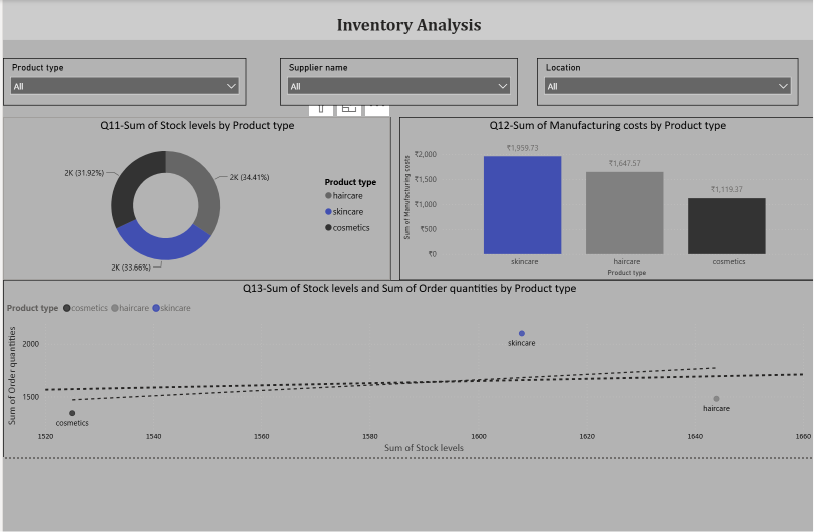

Layout of this report page (visuals, bound fields, positions):
{"tool":"powerbi","page":{"name":"Inventory Analysis","canvas":[1280,720],"ordinal":3},"visuals":[{"type":"columnChart","title":"Q12-Sum of Manufacturing costs by Product type","fields":{"Category":["project_supply_chain_data supply_chain_data.Product type"],"Y":["Sum(project_supply_chain_data supply_chain_data.Manufacturing costs)"]},"box":[625.8,184.9,654.2,256],"z":0},{"type":"scatterChart","title":"Q13-Sum of Stock levels and Sum of Order quantities by Product type","fields":{"X":["Sum(project_supply_chain_data supply_chain_data.Stock levels)"],"Y":["Sum(project_supply_chain_data supply_chain_data.Order quantities)"],"Series":["project_supply_chain_data supply_chain_data.Product type"]},"box":[0,440.9,1280,280.4],"z":1000},{"type":"donutChart","title":"Q11-Sum of Stock levels by Product type","fields":{"Category":["project_supply_chain_data supply_chain_data.Product type"],"Y":["Sum(project_supply_chain_data supply_chain_data.Stock levels)"]},"box":[0,184.9,611.6,256],"z":2000},{"type":"textbox","box":[0,0,1280,63],"z":3000},{"type":"slicer","fields":{"Values":["project_supply_chain_data supply_chain_data.Product type"]},"box":[0,91.4,384,75.2],"z":4000},{"type":"slicer","fields":{"Values":["project_supply_chain_data supply_chain_data.Supplier name"]},"box":[436.8,91.4,373.8,75.2],"z":5000},{"type":"slicer","fields":{"Values":["project_supply_chain_data supply_chain_data.Location"]},"box":[841.1,91.4,412.4,75.2],"z":6000}]}

Visuals, with their boxes on the page's 1280x720 design canvas (x1, y1, x2, y2). These are canvas units, not pixel positions in the 814x532 screenshot, which may show the page scaled, cropped or inside an application window:
"Q12-Sum of Manufacturing costs by Product type" columnChart: {"x1": 626, "y1": 185, "x2": 1280, "y2": 441}
"Q13-Sum of Stock levels and Sum of Order quantities by Product type" scatterChart: {"x1": 0, "y1": 441, "x2": 1280, "y2": 721}
"Q11-Sum of Stock levels by Product type" donutChart: {"x1": 0, "y1": 185, "x2": 612, "y2": 441}
textbox: {"x1": 0, "y1": 0, "x2": 1280, "y2": 63}
slicer - project_supply_chain_data supply_chain_data.Product type: {"x1": 0, "y1": 91, "x2": 384, "y2": 167}
slicer - project_supply_chain_data supply_chain_data.Supplier name: {"x1": 437, "y1": 91, "x2": 811, "y2": 167}
slicer - project_supply_chain_data supply_chain_data.Location: {"x1": 841, "y1": 91, "x2": 1254, "y2": 167}
